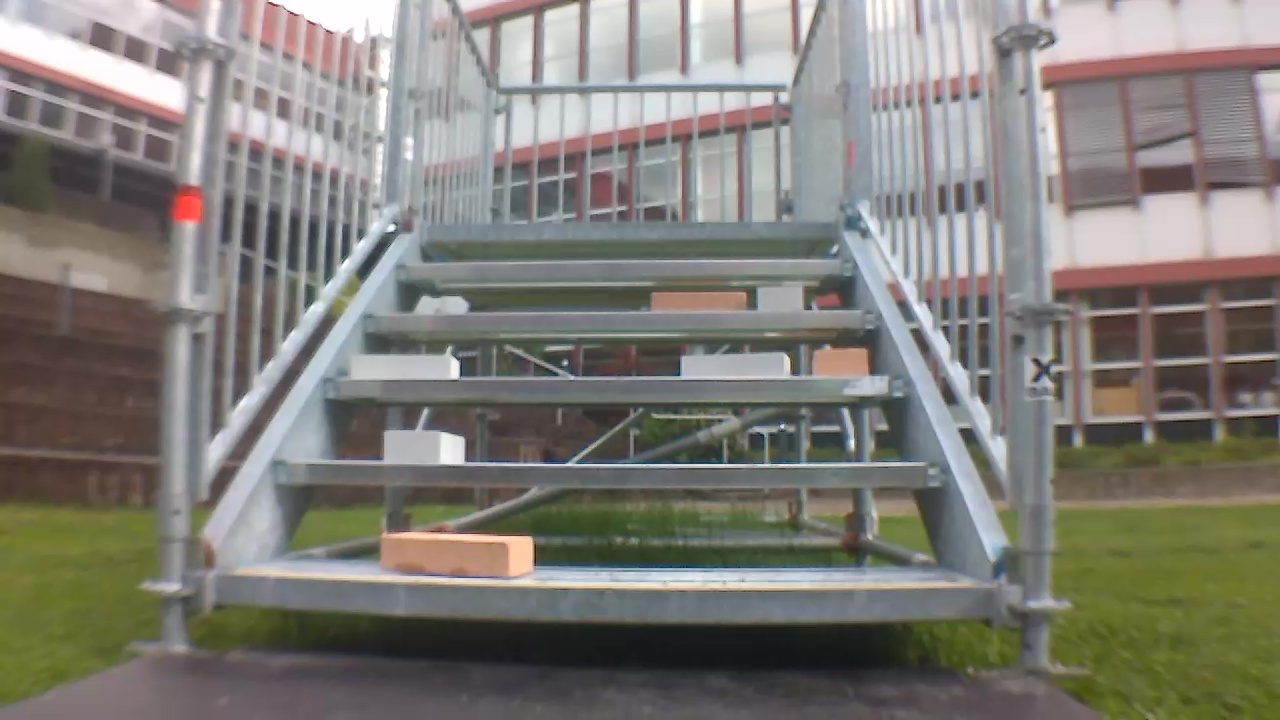brick: (382, 532, 533, 577), (683, 353, 790, 378), (351, 355, 458, 379), (384, 431, 464, 463), (652, 292, 745, 310), (816, 349, 868, 376), (756, 287, 802, 312)
edge: (219, 574, 990, 621), (273, 460, 946, 488), (326, 376, 911, 401), (361, 311, 878, 329), (393, 259, 859, 277), (420, 221, 842, 239)
stairs: (131, 4, 1068, 674)
steps: (210, 212, 999, 637)
